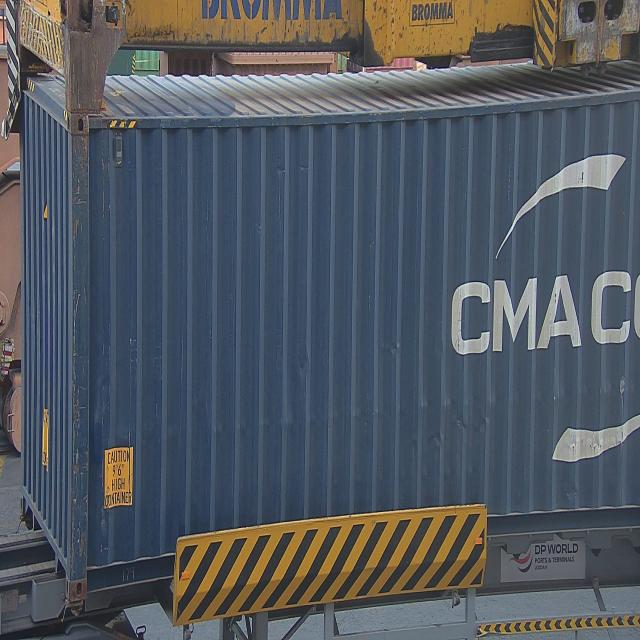dent: (420, 406, 484, 453)
